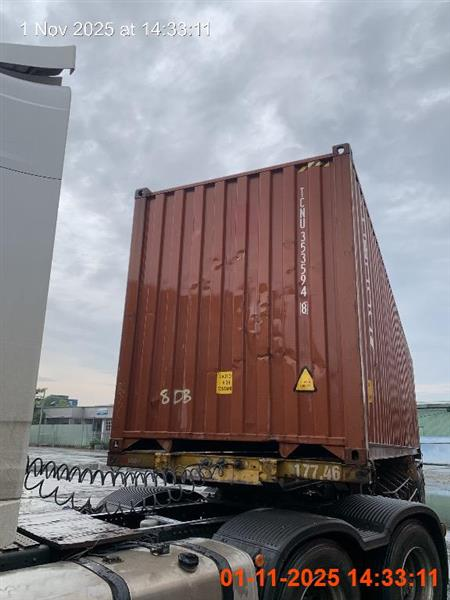crack: (105, 145, 426, 497)
